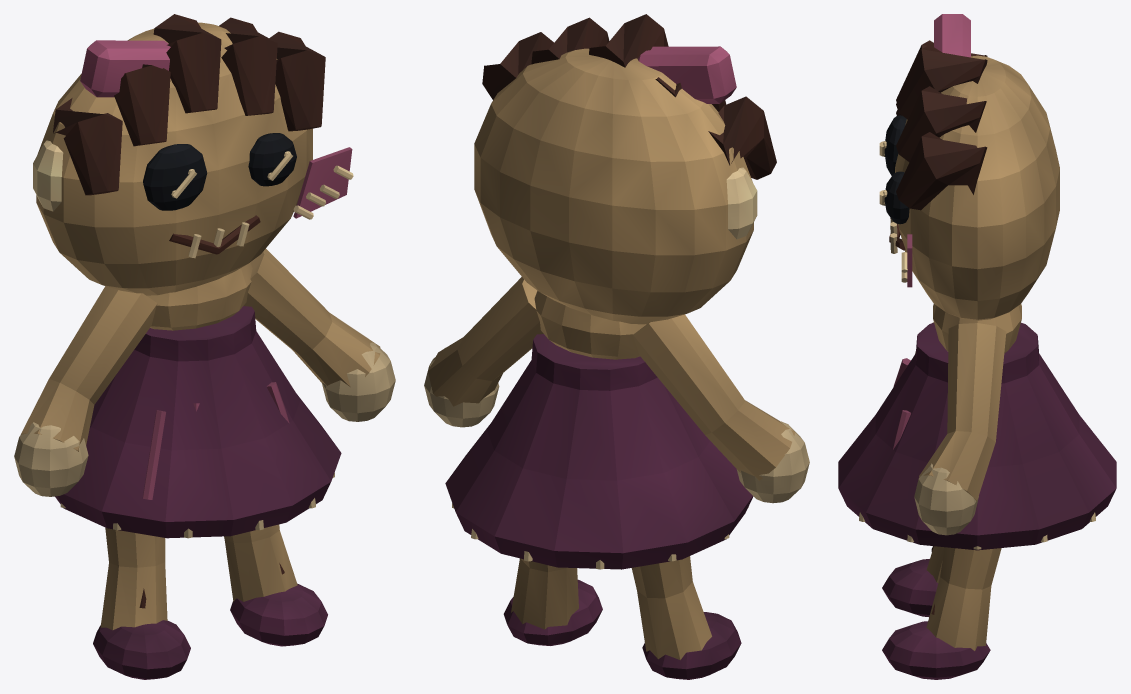
Rendered from cursed_doll.fbx.
3 renders of one model, left to right at view 1: azimuth 30°, elevation 25°; view 2: azimuth 150°, elevation 25°; view 3: azimuth 270°, elevation 25°, orthographic. The views are drawn at different scales.
Parts seen in each view (by area): view 1: cursed_doll; view 2: cursed_doll; view 3: cursed_doll.
Part boxes in pixels (bbox=[...]): cursed_doll: bbox=[14, 14, 395, 679]; cursed_doll: bbox=[424, 14, 809, 679]; cursed_doll: bbox=[838, 14, 1116, 679].
Size of the model in its own units: 2.97 by 4.8 by 2.06.
